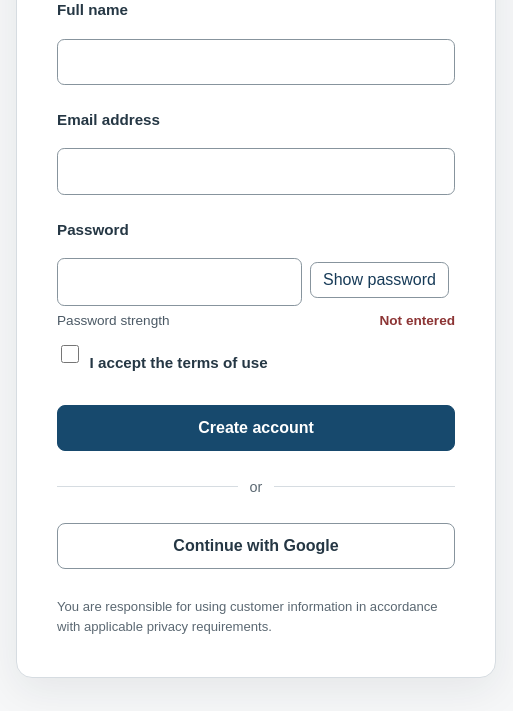
Test: Stage 1 authentication › validates registration fields and terms before sending a request
(page scrolled)
Click the button "Create account".
click(256, 428)  # box [57,404,455,451]
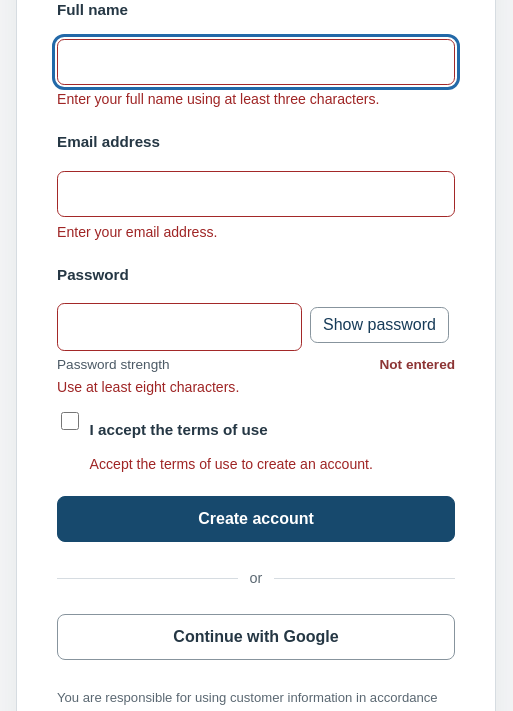
Now the text "Enter your full name using at least three characters." is shown, box [57,91,379,107]
Now the text "Enter your email address." is shown, box [57,224,217,240]
Now the text "Use at least eight characters." is shown, box [57,379,239,395]
